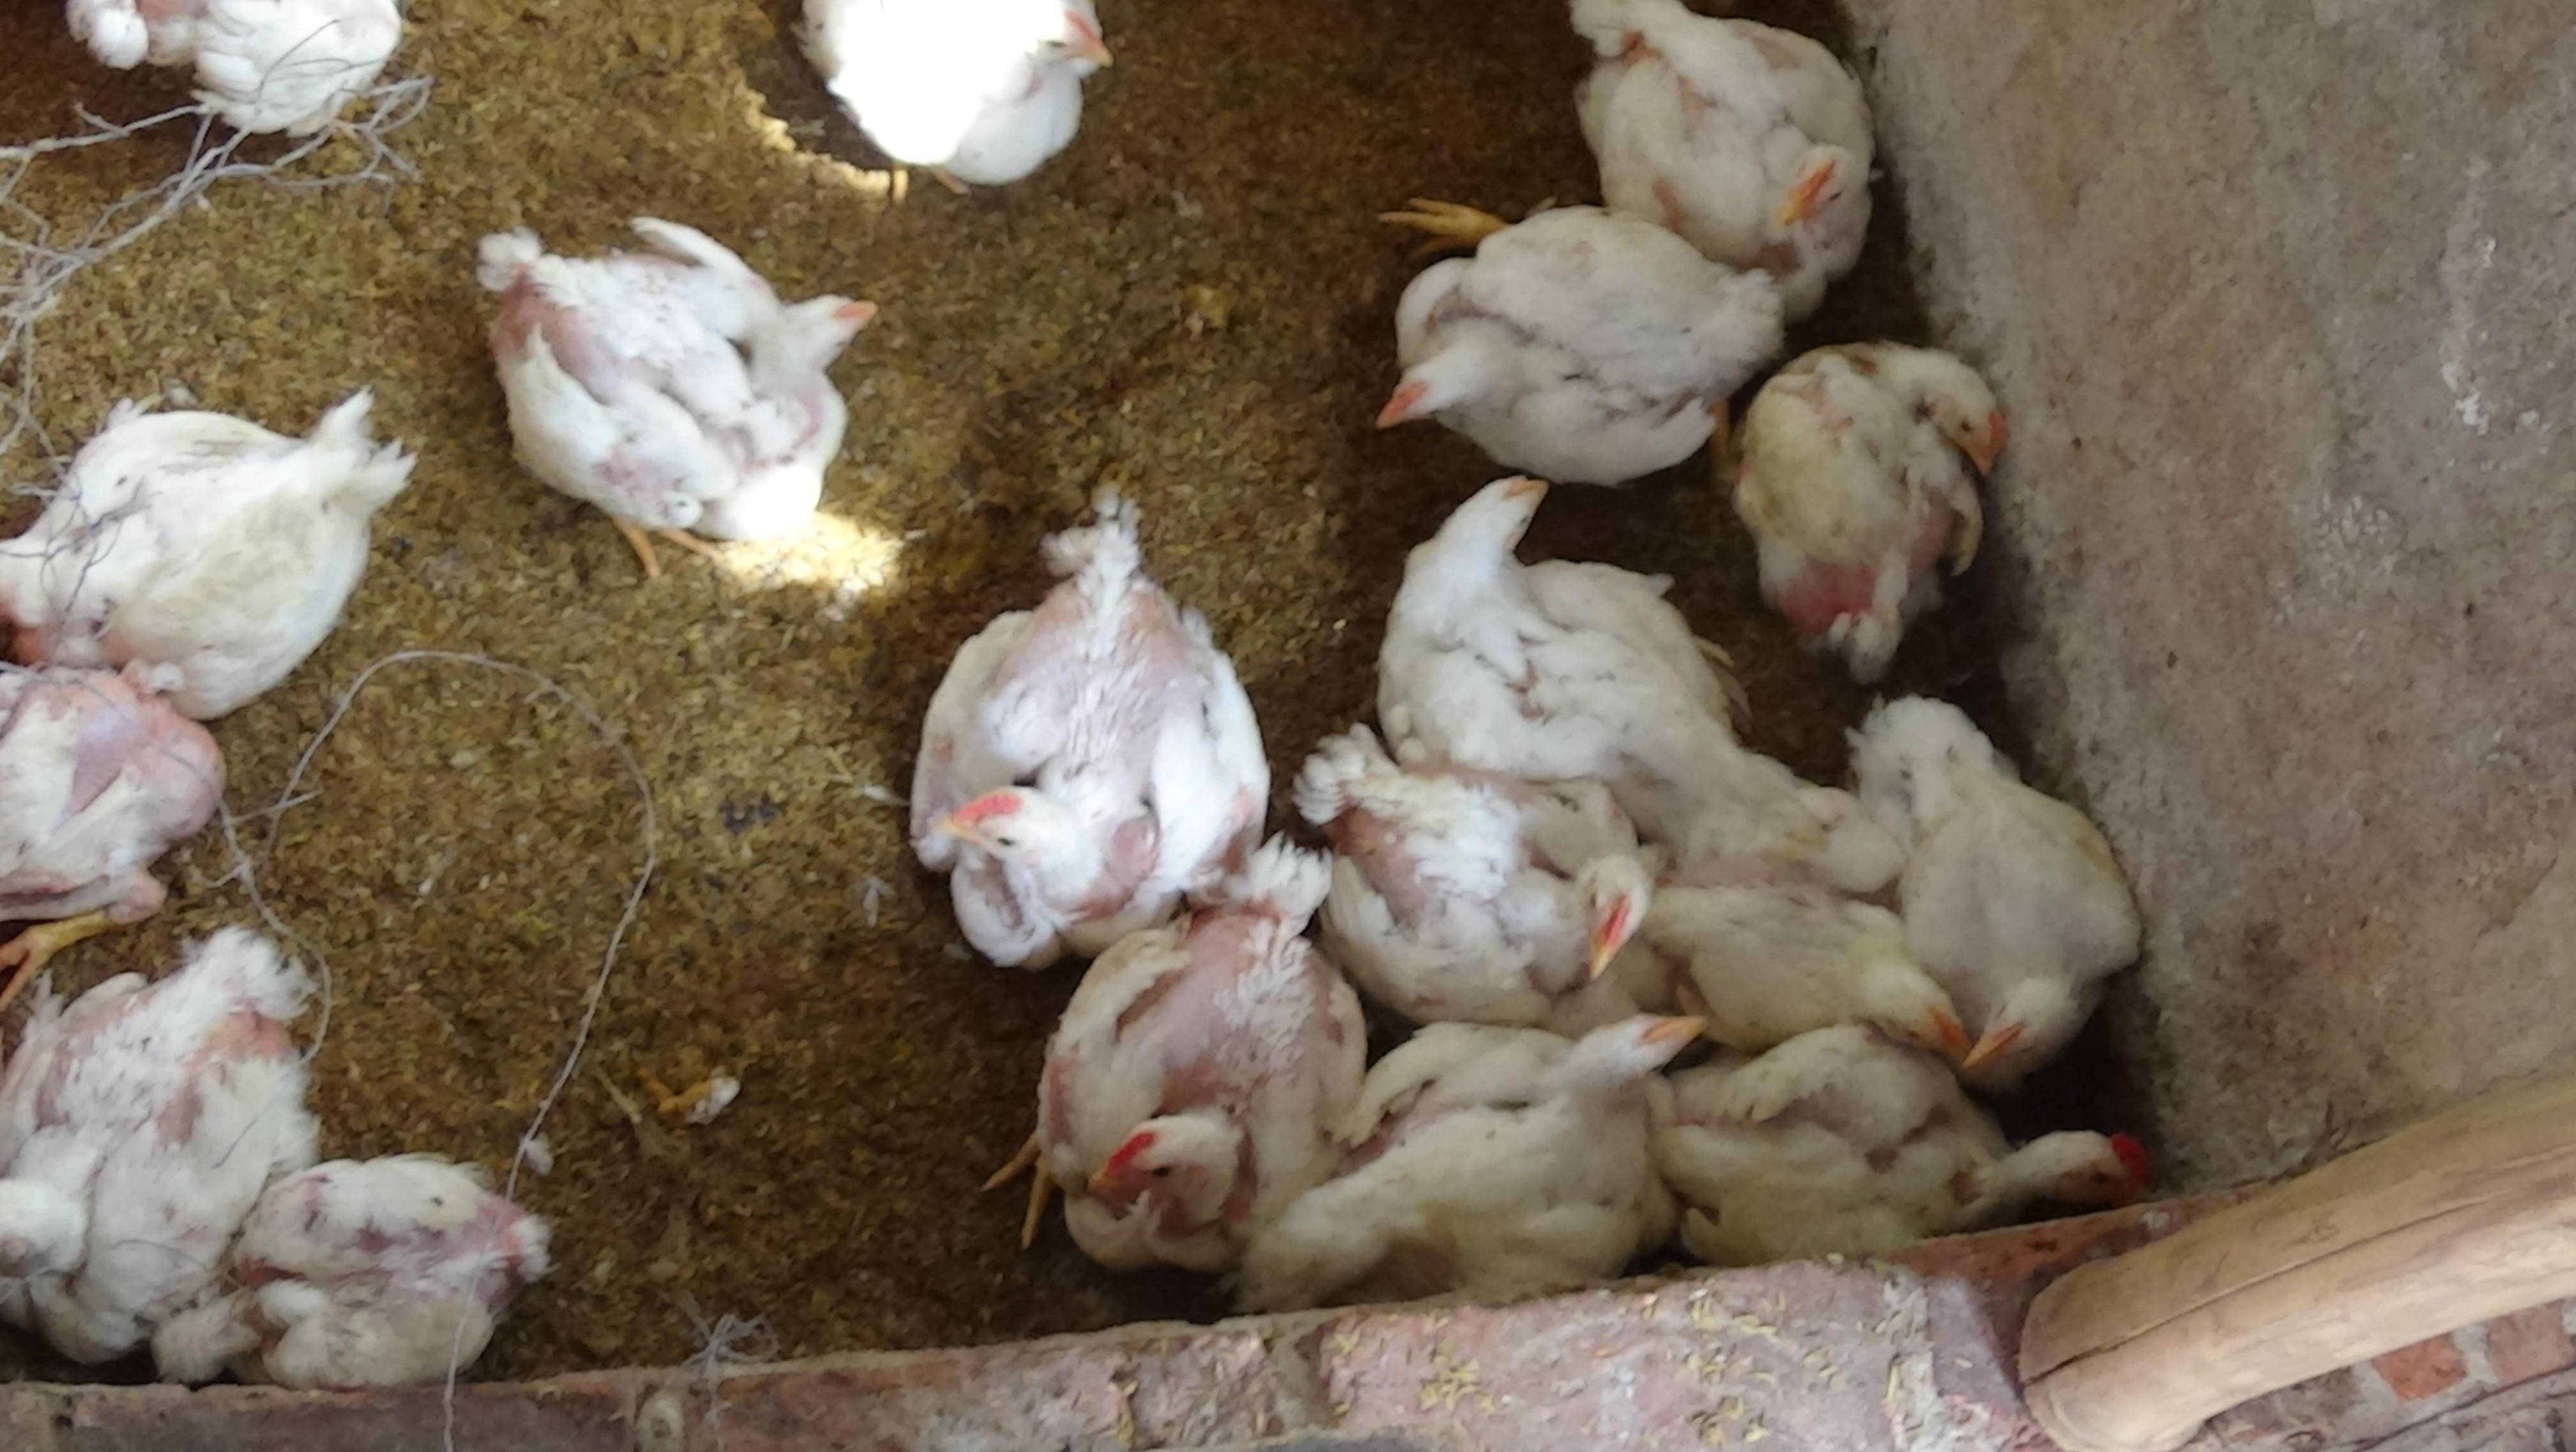Pollos: (909, 492, 1274, 956), (453, 198, 879, 593), (1246, 981, 1744, 1316), (996, 836, 1385, 1264), (0, 900, 366, 1355), (0, 349, 426, 687), (1359, 174, 1799, 489), (1368, 459, 1766, 783), (129, 1130, 580, 1397), (1628, 1023, 2178, 1240), (1727, 312, 2042, 678), (1865, 680, 2151, 1075), (1523, 0, 1921, 283), (1261, 738, 1668, 1011), (1575, 871, 1962, 1078), (775, 0, 1131, 200), (0, 634, 244, 914)
